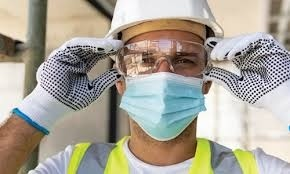safety_goggles: (108, 36, 232, 77)
